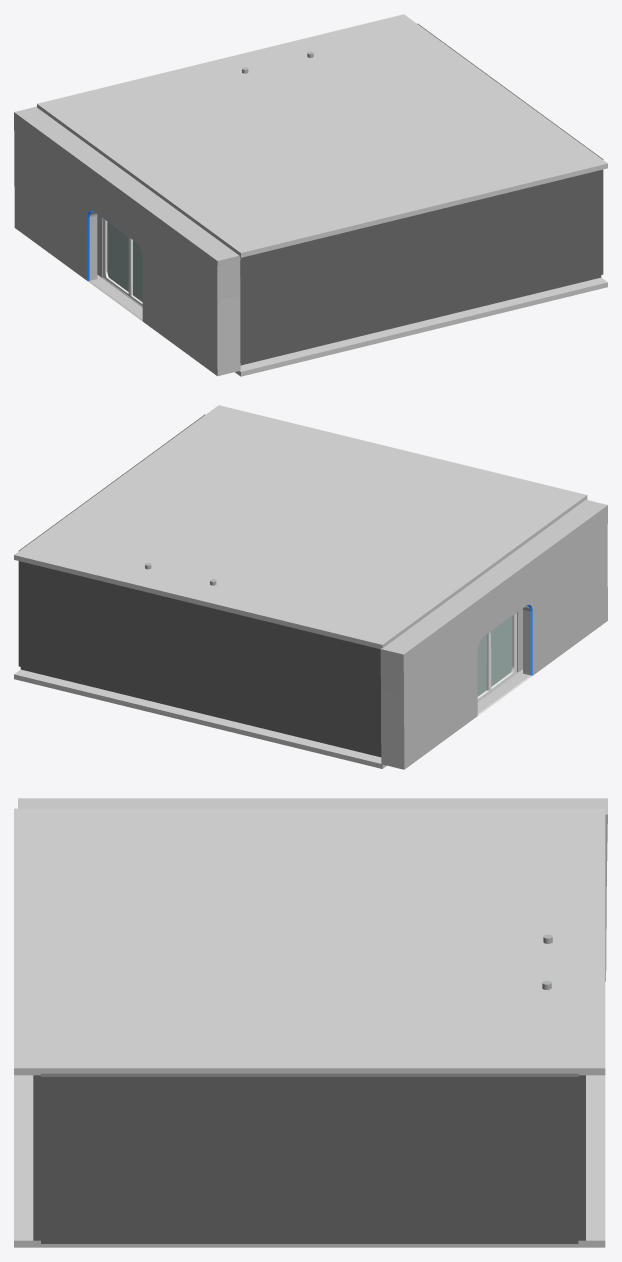
The model's file is Lobby.gltf.
3 renders of one model, top to bottom at view 1: azimuth 30°, elevation 25°; view 2: azimuth 150°, elevation 25°; view 3: azimuth 270°, elevation 25°, orthographic. The views are drawn at different scales.
Visible parts, largest first — view 1: SM_FLOOR_3, SM_CORRIDOR_DOOR_FRAME, SM_WALL_16, SM_WALL_17, SM_WALL_18, SM_WALL_15, SM_WALL_14, SM_WALL_12, SM_WALL_13, SM_WALL_11, SM_FLOOR_4, SM_DOOR_1 (+1 smaller); view 2: SM_FLOOR_3, SM_CORRIDOR_DOOR_FRAME, SM_WALL_10, SM_WALL_8, SM_WALL_9, SM_WALL_5, SM_WALL_6, SM_WALL_7, SM_WALL_4, SM_FLOOR_4, SM_WALL_3, SM_DOOR_2 (+1 smaller); view 3: SM_FLOOR_3, SM_WALL_23, SM_WALL_22, SM_WALL_71, SM_WALL_19, SM_WALL_20, SM_WALL_21, SM_WALL_74, SM_FLOOR_4, SM_CORRIDOR_DOOR_FRAME, SM_WALL_10, SM_WALL_17.
Boxes of the visible parts, <box> form: SM_FLOOR_3: <box>37,14,607,257</box>; SM_CORRIDOR_DOOR_FRAME: <box>14,106,240,376</box>; SM_WALL_16: <box>509,181,555,299</box>; SM_WALL_17: <box>555,170,601,288</box>; SM_WALL_18: <box>463,192,509,310</box>; SM_WALL_15: <box>418,203,463,322</box>; SM_WALL_14: <box>372,214,417,333</box>; SM_WALL_12: <box>280,237,325,355</box>; SM_WALL_13: <box>326,226,371,344</box>; SM_WALL_11: <box>240,248,280,365</box>; SM_FLOOR_4: <box>235,277,607,376</box>; SM_DOOR_1: <box>103,218,129,296</box>; SM_FLOOR_3: <box>14,405,587,649</box>; SM_CORRIDOR_DOOR_FRAME: <box>380,499,607,769</box>; SM_WALL_10: <box>20,561,66,680</box>; SM_WALL_8: <box>112,584,158,702</box>; SM_WALL_9: <box>66,573,112,691</box>; SM_WALL_5: <box>251,617,296,736</box>; SM_WALL_6: <box>205,606,250,725</box>; SM_WALL_7: <box>159,595,204,714</box>; SM_WALL_4: <box>297,629,342,747</box>; SM_FLOOR_4: <box>14,669,386,768</box>; SM_WALL_3: <box>343,640,381,757</box>; SM_DOOR_2: <box>490,613,516,691</box>; SM_FLOOR_3: <box>14,808,605,1075</box>; SM_WALL_23: <box>194,1073,271,1243</box>; SM_WALL_22: <box>117,1073,194,1243</box>; SM_WALL_71: <box>501,1073,578,1243</box>; SM_WALL_19: <box>271,1073,347,1243</box>; SM_WALL_20: <box>348,1073,424,1243</box>; SM_WALL_21: <box>425,1073,501,1243</box>; SM_WALL_74: <box>41,1073,117,1243</box>; SM_FLOOR_4: <box>14,1075,605,1247</box>; SM_CORRIDOR_DOOR_FRAME: <box>18,798,607,981</box>; SM_WALL_10: <box>578,1075,585,1240</box>; SM_WALL_17: <box>33,1075,40,1240</box>.
Size of the model in its own units: 17.16 by 5.3 by 15.47.
40 materials, 30 textured.
